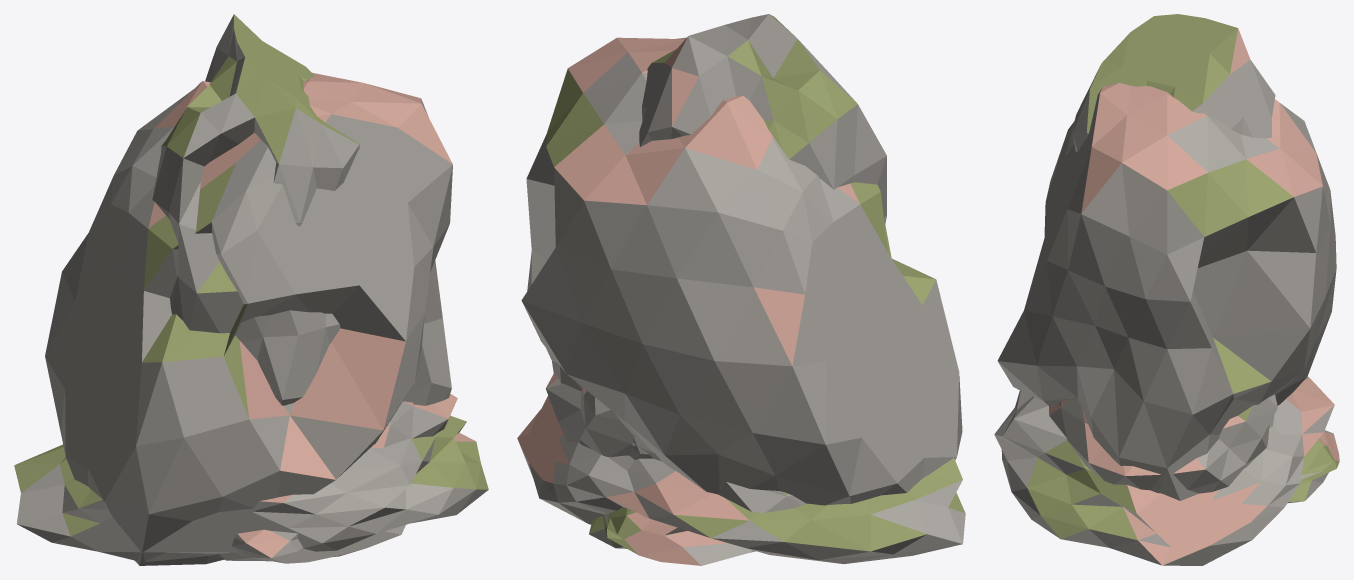
Rendered from Seabed_Rocks.fbx.
3 renders of one model, left to right at view 1: azimuth 30°, elevation 25°; view 2: azimuth 150°, elevation 25°; view 3: azimuth 270°, elevation 25°, orthographic. The views are drawn at different scales.
Visible parts, largest first — view 1: rock_outcrop_b, rock_outcrop_a, rock_slab_a, rock_slab_b, rock_boulder_b; view 2: rock_outcrop_b, rock_slab_a, rock_outcrop_a, rock_boulder_b, rock_slab_b; view 3: rock_outcrop_b, rock_slab_a, rock_outcrop_a, rock_boulder_b, rock_slab_b.
Part boxes in pixels (box(x1,y1,x2,y2)): rock_outcrop_b: box(45, 72, 452, 565); rock_outcrop_a: box(152, 14, 359, 405); rock_slab_a: box(14, 415, 488, 561); rock_slab_b: box(214, 525, 405, 563); rock_boulder_b: box(370, 394, 457, 448); rock_outcrop_b: box(521, 37, 962, 505); rock_slab_a: box(517, 395, 965, 563); rock_outcrop_a: box(639, 14, 886, 225); rock_boulder_b: box(545, 373, 805, 512); rock_slab_b: box(589, 507, 755, 565); rock_outcrop_b: box(997, 83, 1336, 500); rock_slab_a: box(994, 376, 1334, 565); rock_outcrop_a: box(1066, 14, 1275, 154); rock_boulder_b: box(1049, 394, 1277, 493); rock_slab_b: box(1288, 430, 1339, 503).
Bounding box in the file's own units: 3.97 × 4.2 × 2.8.
